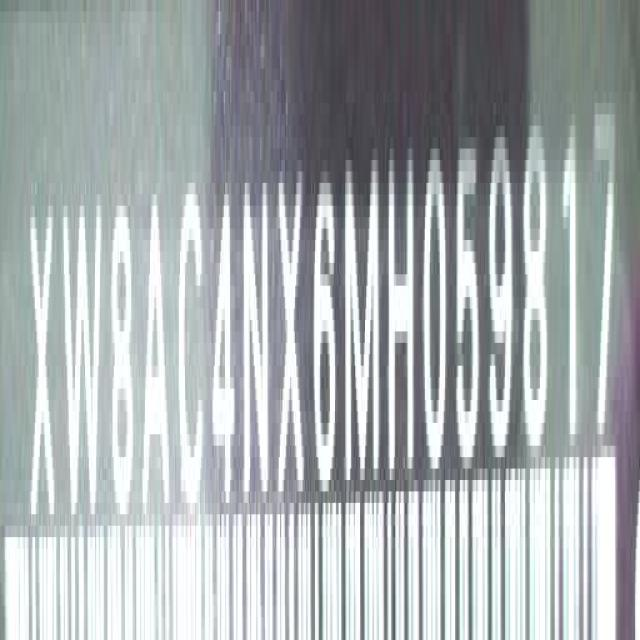0: (423, 132, 449, 481)
1: (560, 109, 582, 464)
4: (213, 174, 235, 516)
5: (455, 140, 483, 461)
6: (313, 160, 340, 498)
7: (591, 89, 615, 440)
8: (522, 120, 550, 464), (112, 196, 136, 521)
9: (487, 126, 514, 468)
A: (140, 185, 170, 525)
C: (179, 183, 208, 519)
H: (388, 139, 418, 489)
M: (342, 148, 383, 478)
N: (242, 160, 270, 508)
W: (63, 195, 101, 537)
X: (278, 155, 307, 509), (28, 202, 56, 540)
